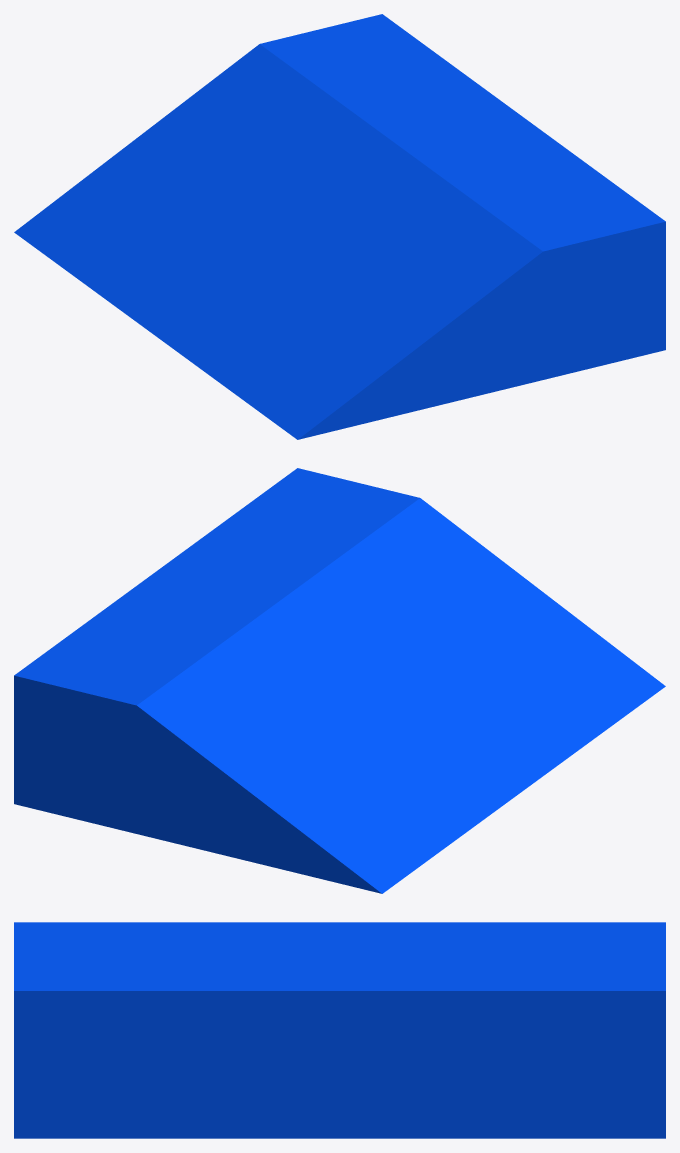
Rendered from COL_Floor-Stairs-4x21-Layered-Long.FBX.
3 renders of one model, top to bottom at view 1: azimuth 30°, elevation 25°; view 2: azimuth 150°, elevation 25°; view 3: azimuth 270°, elevation 25°, orthographic. The views are drawn at different scales.
Parts seen in each view (by area): view 1: COL_Floor-Stairs-4x21-Layered-Long; view 2: COL_Floor-Stairs-4x21-Layered-Long; view 3: COL_Floor-Stairs-4x21-Layered-Long.
Part boxes in pixels (left/top/right/bottom): COL_Floor-Stairs-4x21-Layered-Long: left=14, top=14, right=665, bottom=439; COL_Floor-Stairs-4x21-Layered-Long: left=14, top=468, right=665, bottom=893; COL_Floor-Stairs-4x21-Layered-Long: left=14, top=922, right=665, bottom=1138.
Size of the model in its own units: 30 by 10 by 40.
